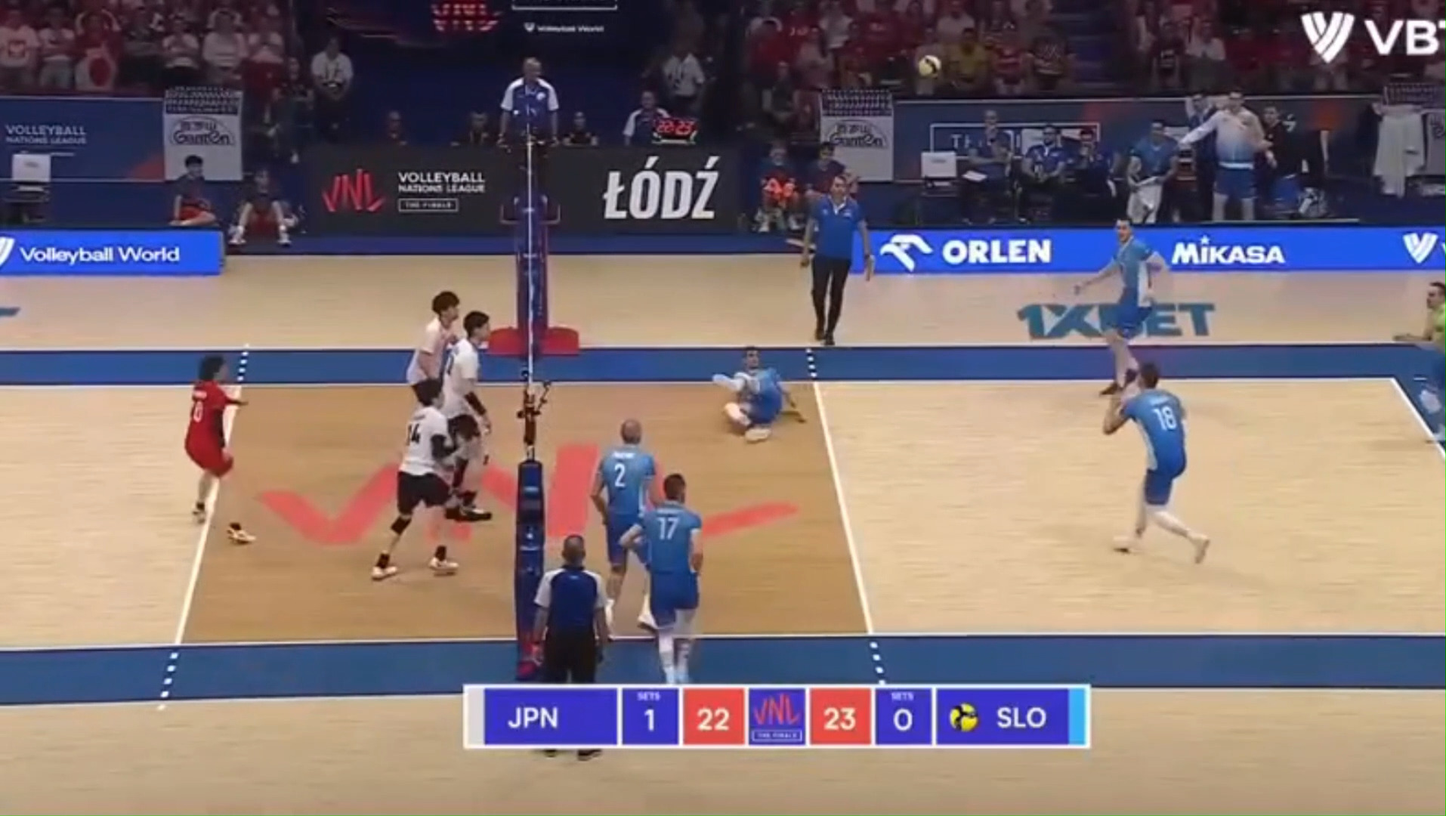ball: (916, 54, 942, 78)
player: (1102, 362, 1210, 563), (621, 473, 703, 683), (1074, 221, 1167, 395), (591, 419, 657, 623), (1395, 282, 1445, 440), (714, 348, 796, 441)
player 1: (371, 380, 456, 580), (439, 311, 491, 521), (184, 354, 246, 523), (406, 291, 459, 390)
referee: (497, 57, 560, 237), (533, 535, 609, 684), (801, 175, 867, 345)
